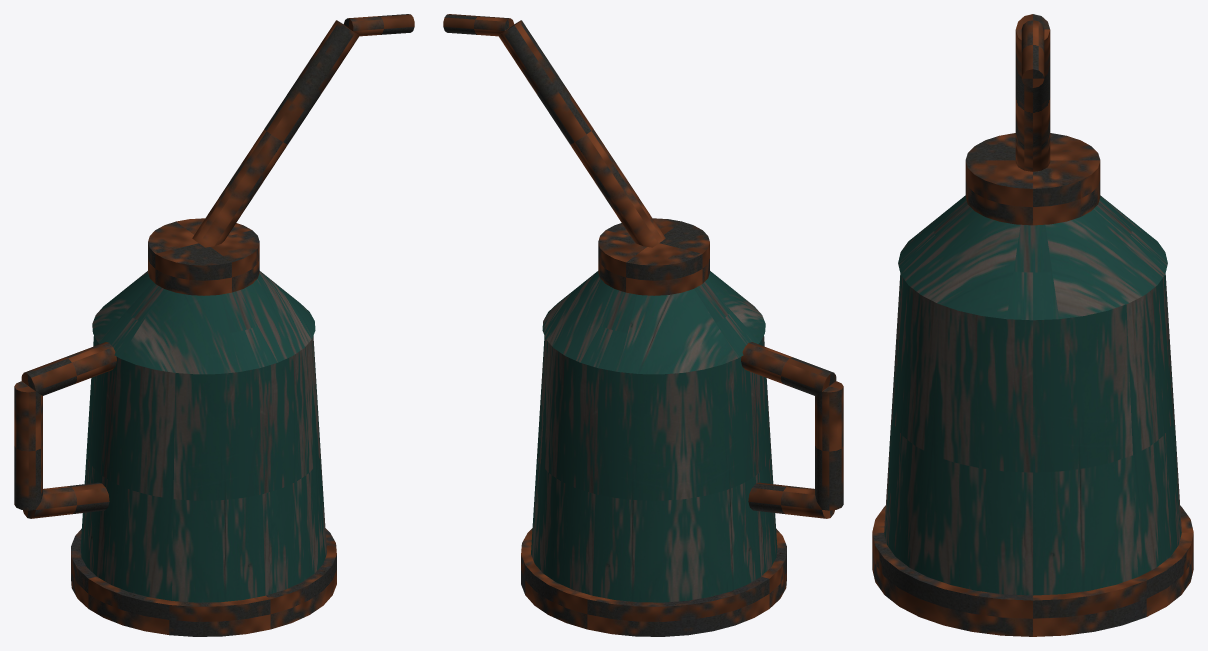
The model's file is SM_PumpOilCan_63bea31b99.fbx.
3 views of the same model, side by side, from view 1: azimuth 30°, elevation 25°; view 2: azimuth 150°, elevation 25°; view 3: azimuth 270°, elevation 25° (orthographic). The views are drawn at different scales.
Parts seen in each view (by area): view 1: SM_PumpOilCan_63bea31b99; view 2: SM_PumpOilCan_63bea31b99; view 3: SM_PumpOilCan_63bea31b99.
Boxes of the visible parts, left/top/right/bottom form: SM_PumpOilCan_63bea31b99: left=14, top=14, right=414, bottom=636; SM_PumpOilCan_63bea31b99: left=443, top=14, right=843, bottom=636; SM_PumpOilCan_63bea31b99: left=872, top=14, right=1193, bottom=636.
Size of what is drawn, in the model's own units: 38.31 by 22.4 by 48.79.
2 materials, 2 textured.
